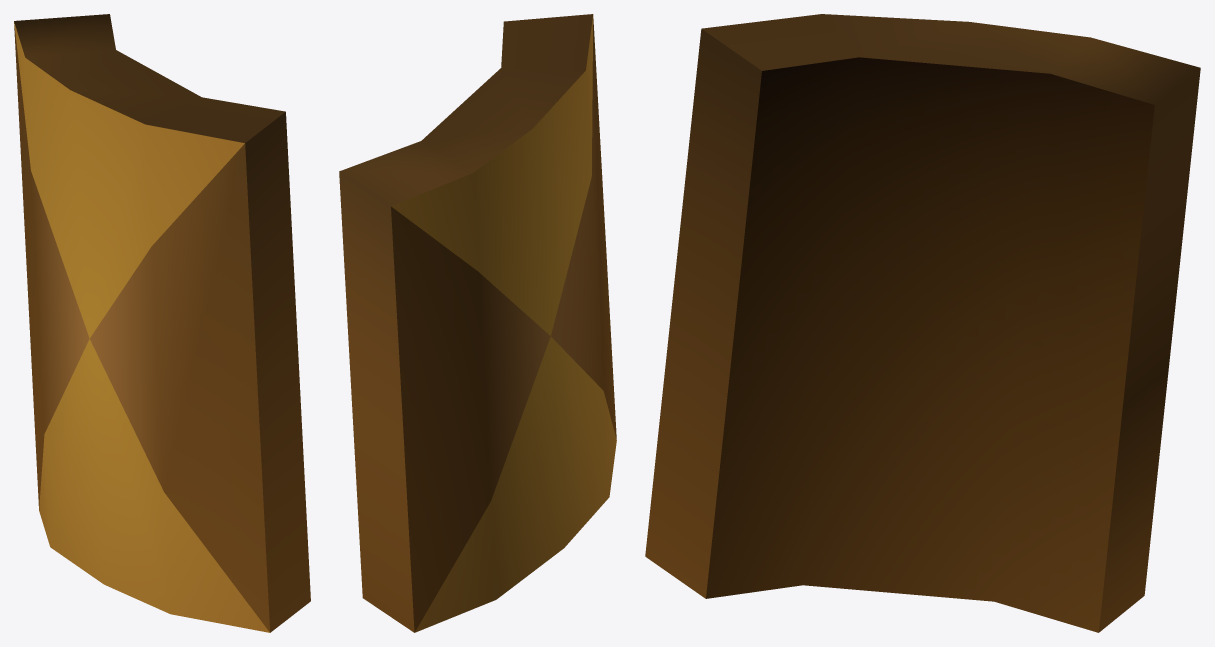
Rendered from Shield.fbx.
3 views of the same model, side by side, from view 1: azimuth 30°, elevation 25°; view 2: azimuth 150°, elevation 25°; view 3: azimuth 270°, elevation 25° (orthographic). The views are drawn at different scales.
Visible parts, largest first — view 1: Militia_Shield; view 2: Militia_Shield; view 3: Militia_Shield.
Boxes of the visible parts, x1,y1,x2,y2 form: Militia_Shield: (14, 14, 310, 632); Militia_Shield: (339, 14, 616, 632); Militia_Shield: (645, 14, 1200, 632).
Size of the model in its own units: 1320 by 5230 by 4608.
